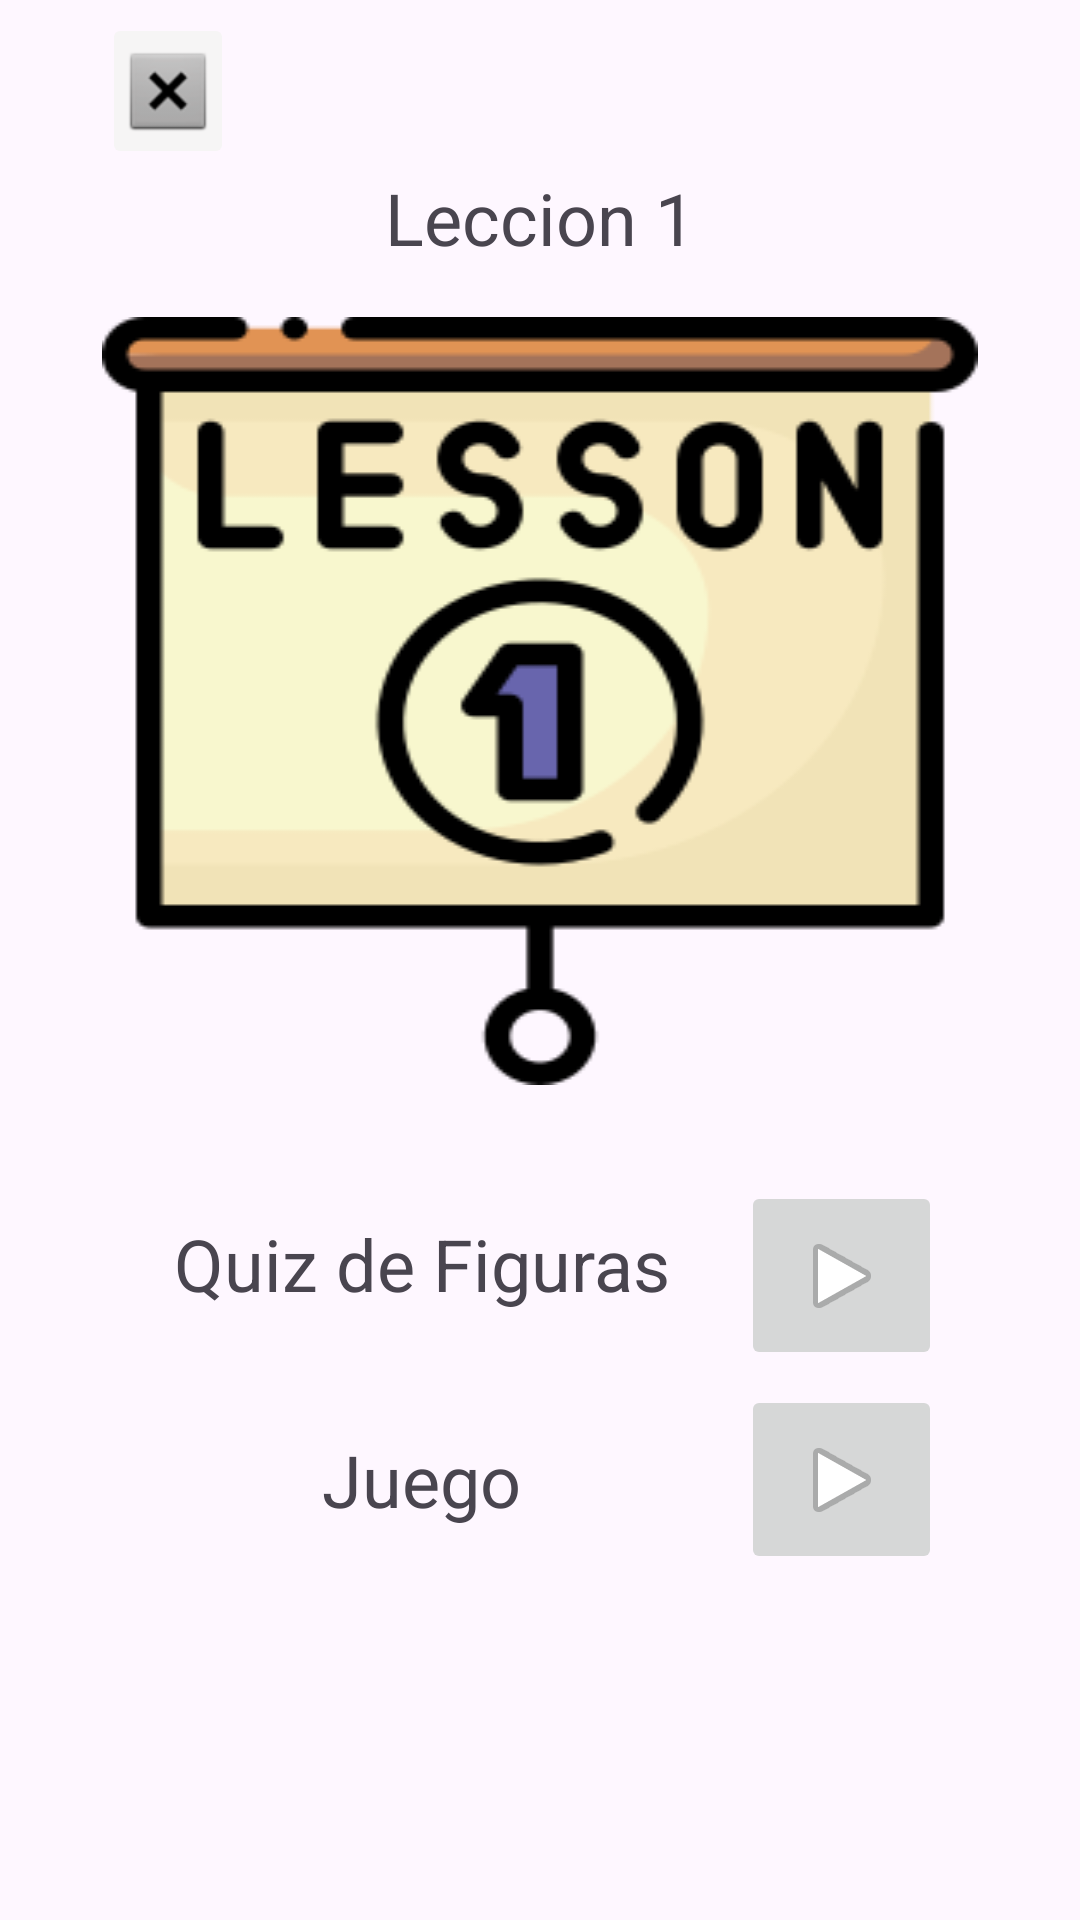

Screen size 1080w x 1920h. Icon name, then its center in pixels as (x,y):
play: (841,1275), (841,1479)
